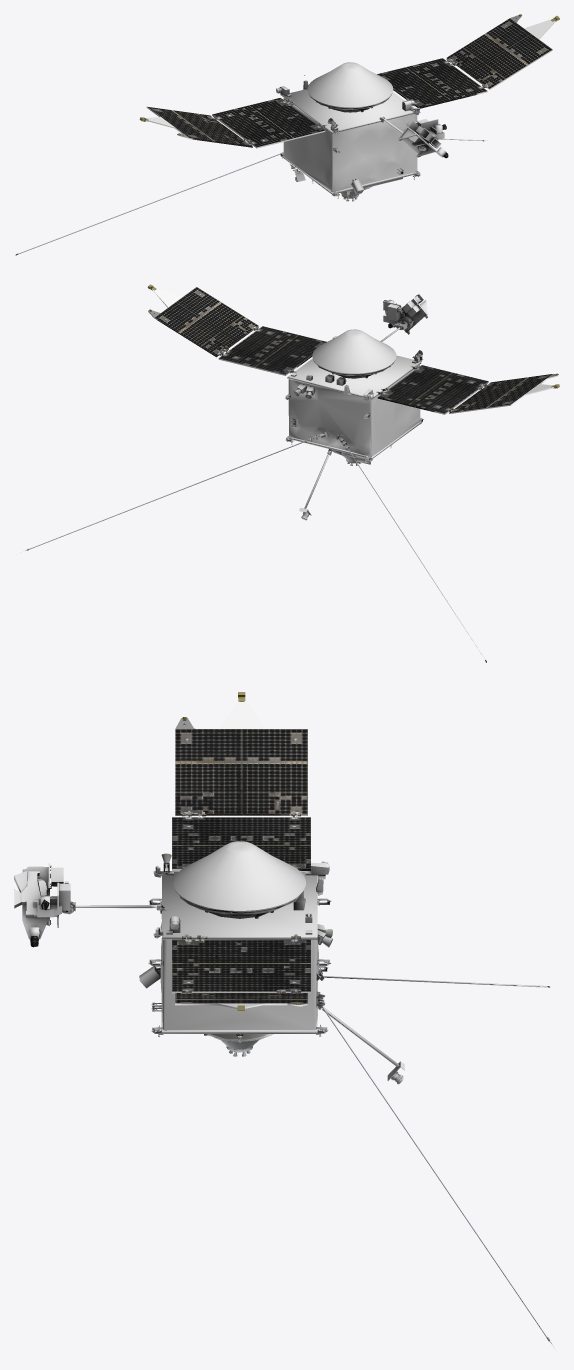
The model's file is maven.glb.
3 views of the same model, one above another, from view 1: azimuth 30°, elevation 25°; view 2: azimuth 150°, elevation 25°; view 3: azimuth 270°, elevation 25° (orthographic). The views are drawn at different scales.
Bounding box in the file's own units: 12.9 × 5.41 × 8.21.
Materials: 11 (9 with a texture image).
